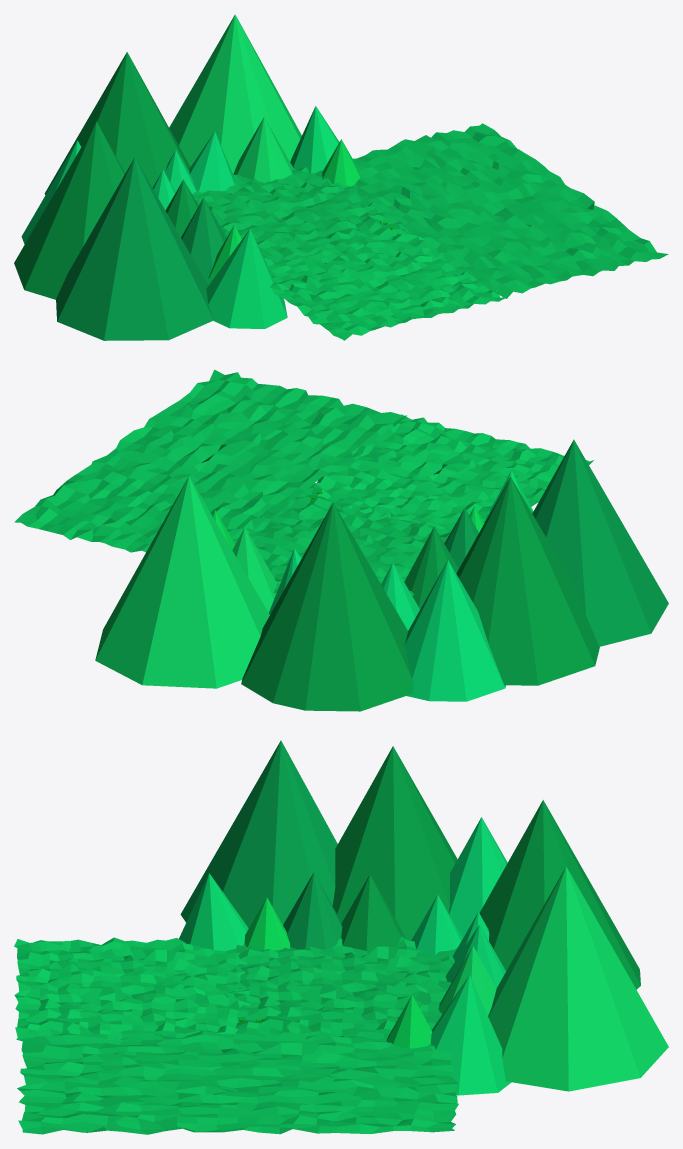
The model's file is mapav2.glb.
The picture shows the model from 3 angles, top to bottom: view 1: azimuth 30°, elevation 25°; view 2: azimuth 150°, elevation 25°; view 3: azimuth 270°, elevation 25°; orthographic projection. The views are drawn at different scales.
Parts seen in each view (by area): view 1: Plane.003, Cone.002, Plane.002, Plane.001, Cone.007, Cone.001, Cone.014, Cone.006, Cone.004, Cone.009, Cone.005, Cone.013 (+6 smaller); view 2: Plane.003, Cone.007, Cone.014, Cone.001, Plane.002, Cone.002, Cone, Plane.001, Cone.010, Cone.004, Cone.011, Cone.009; view 3: Plane.003, Cone.007, Plane.002, Plane.001, Cone.002, Cone.001, Cone.014, Cone.005, Cone, Cone.006, Cone.010, Cone.009 (+5 smaller).
Part boxes in pixels (<box>): Plane.003: <box>350,123,668,298</box>; Cone.002: <box>56,157,213,340</box>; Plane.002: <box>268,228,507,340</box>; Plane.001: <box>192,166,415,265</box>; Cone.007: <box>169,14,301,173</box>; Cone.001: <box>14,121,125,299</box>; Cone.014: <box>44,52,190,194</box>; Cone.006: <box>206,228,287,328</box>; Cone.004: <box>233,117,292,182</box>; Cone.009: <box>181,197,226,285</box>; Cone.005: <box>290,106,339,173</box>; Cone.013: <box>189,132,234,192</box>; Plane.003: <box>14,369,406,552</box>; Cone.007: <box>95,476,269,688</box>; Cone.014: <box>241,502,413,711</box>; Cone.001: <box>456,477,599,685</box>; Plane.002: <box>298,414,593,533</box>; Cone.002: <box>532,439,668,646</box>; Cone: <box>404,560,505,701</box>; Plane.001: <box>233,489,450,595</box>; Cone.010: <box>404,526,458,609</box>; Cone.004: <box>232,527,276,612</box>; Cone.011: <box>381,563,419,630</box>; Cone.009: <box>444,508,478,568</box>; Plane.003: <box>16,1030,458,1134</box>; Cone.007: <box>488,866,668,1091</box>; Plane.002: <box>14,937,251,1039</box>; Plane.001: <box>233,935,463,1039</box>; Cone.002: <box>180,740,337,928</box>; Cone.001: <box>332,746,457,940</box>; Cone.014: <box>479,800,640,989</box>; Cone.005: <box>430,975,511,1095</box>; Cone: <box>448,817,507,936</box>; Cone.006: <box>179,873,248,951</box>; Cone.010: <box>341,874,406,950</box>; Cone.009: <box>283,872,342,949</box>.
Size of the model in its own units: 679 by 205 by 648.
